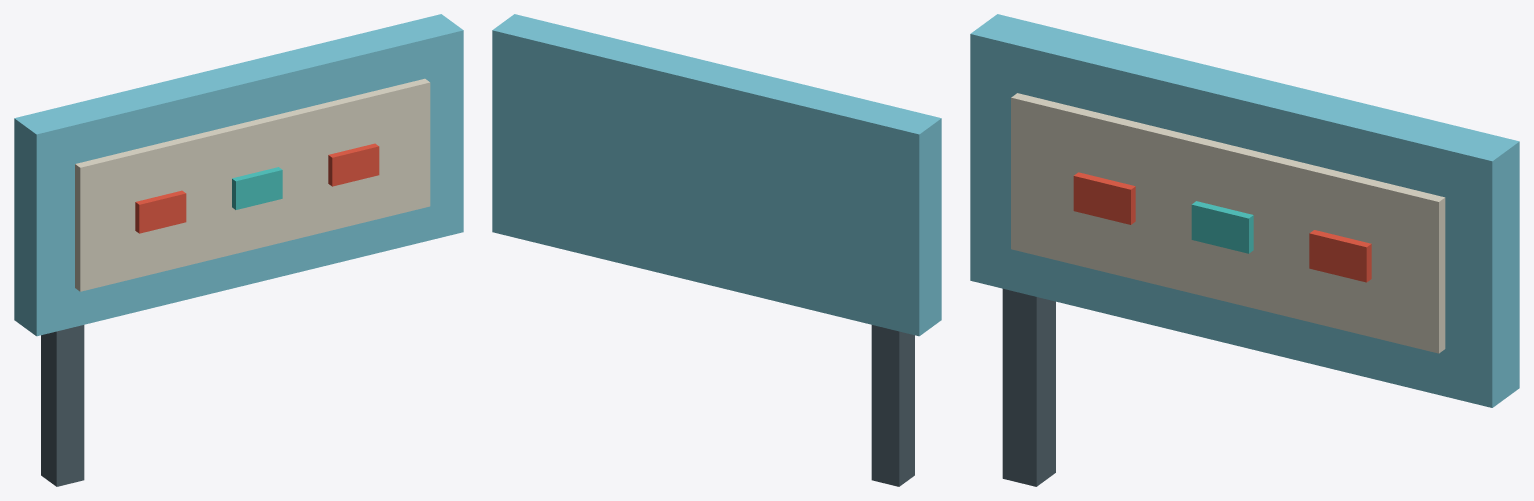
The model's file is bp_decorsign.glb.
3 renders of one model, left to right at view 1: azimuth 30°, elevation 25°; view 2: azimuth 150°, elevation 25°; view 3: azimuth 330°, elevation 25°, orthographic. The views are drawn at different scales.
Visible parts, largest first — view 1: Board, Inset, Bracket, Mark, Mark.002, Mark.001; view 2: Board, Bracket; view 3: Board, Inset, Bracket, Mark.001, Mark, Mark.002.
Part boxes in pixels (<box>): Board: <box>14,14,463,336</box>; Inset: <box>75,78,430,291</box>; Bracket: <box>41,325,84,486</box>; Mark: <box>135,190,186,233</box>; Mark.002: <box>328,143,379,186</box>; Mark.001: <box>232,167,282,209</box>; Board: <box>492,14,941,336</box>; Bracket: <box>871,325,914,486</box>; Board: <box>970,14,1519,407</box>; Inset: <box>1011,93,1445,353</box>; Bracket: <box>1002,288,1055,486</box>; Mark.001: <box>1191,201,1253,253</box>; Mark: <box>1073,172,1135,224</box>; Mark.002: <box>1309,230,1371,282</box>.
Size of the model in its own units: 1.55 by 1.25 by 0.1975.
